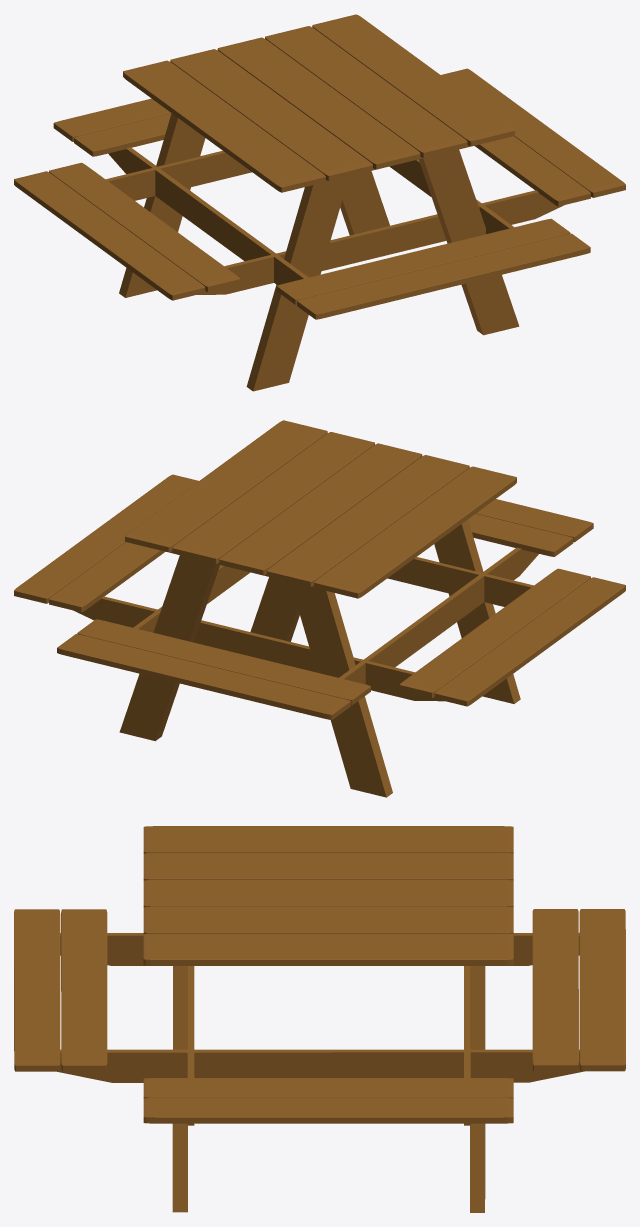
Rendered from chair & table2.fbx.
3 views of the same model, one above another, from view 1: azimuth 30°, elevation 25°; view 2: azimuth 150°, elevation 25°; view 3: azimuth 270°, elevation 25° (orthographic). The views are drawn at different scales.
Visible parts, largest first — view 1: Cube.001, Cube.003, Cube.004, Cube.002, Cube, Cube.005, Cube.020, Cube.013, Cube.011, Cube.008, Cube.012, Cube.021 (+9 smaller); view 2: Cube.001, Cube.003, Cube.004, Cube.002, Cube, Cube.007, Cube.019, Cube.013, Cube.006, Cube.012, Cube.018, Cube.010 (+9 smaller); view 3: Cube.016, Cube.004, Cube.002, Cube.001, Cube, Cube.003, Cube.014, Cube.021, Cube.018, Cube.020, Cube.019, Cube.015 (+5 smaller).
Part boxes in pixels (bbox=[...]): Cube.001: bbox=[123, 60, 325, 192]; Cube.003: bbox=[217, 37, 420, 169]; Cube.004: bbox=[312, 14, 514, 146]; Cube.002: bbox=[265, 26, 467, 157]; Cube: bbox=[170, 49, 372, 180]; Cube.005: bbox=[246, 176, 348, 391]; Cube.020: bbox=[297, 233, 590, 319]; Cube.013: bbox=[14, 171, 205, 300]; Cube.011: bbox=[197, 190, 563, 294]; Cube.008: bbox=[419, 149, 519, 335]; Cube.012: bbox=[49, 162, 240, 291]; Cube.021: bbox=[276, 218, 570, 304]; Cube.001: bbox=[314, 466, 516, 598]; Cube.003: bbox=[219, 443, 422, 575]; Cube.004: bbox=[125, 420, 327, 552]; Cube.002: bbox=[172, 432, 374, 563]; Cube: bbox=[267, 455, 469, 586]; Cube.007: bbox=[290, 582, 392, 797]; Cube.019: bbox=[57, 634, 350, 719]; Cube.013: bbox=[434, 577, 625, 706]; Cube.006: bbox=[119, 555, 219, 741]; Cube.012: bbox=[399, 568, 590, 697]; Cube.018: bbox=[77, 619, 370, 705]; Cube.010: bbox=[74, 596, 444, 701]; Cube.016: bbox=[57, 1049, 584, 1082]; Cube.004: bbox=[143, 933, 513, 965]; Cube.002: bbox=[143, 906, 513, 934]; Cube.001: bbox=[143, 826, 513, 853]; Cube: bbox=[143, 853, 513, 880]; Cube.003: bbox=[143, 880, 513, 907]; Cube.014: bbox=[143, 1098, 513, 1123]; Cube.021: bbox=[61, 909, 107, 1071]; Cube.018: bbox=[532, 909, 578, 1071]; Cube.020: bbox=[14, 909, 60, 1071]; Cube.019: bbox=[579, 909, 625, 1071]; Cube.015: bbox=[143, 1078, 513, 1098].
Bounding box in the file's own units: 1964 × 863 × 1965.
